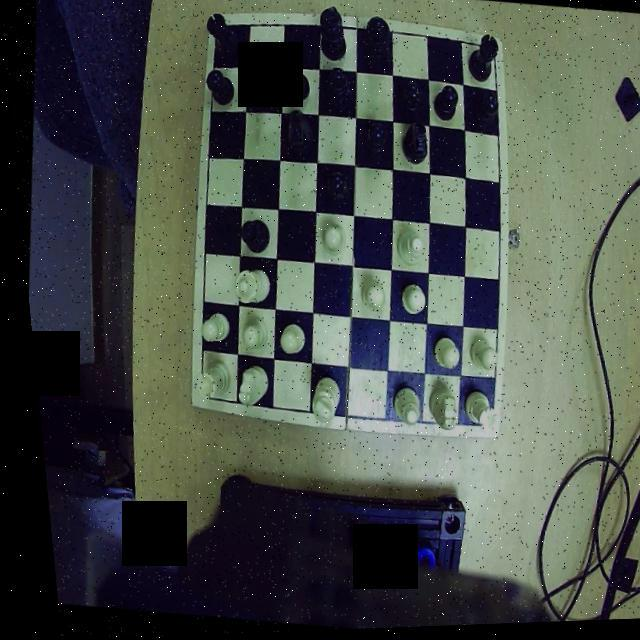chess-table-corners: (466, 412, 492, 439), (184, 385, 210, 411), (206, 15, 226, 45), (478, 39, 500, 63)
